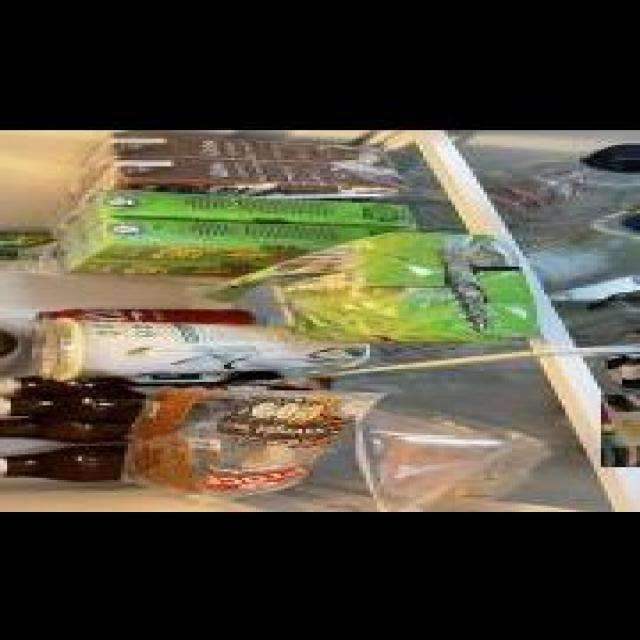sausage: (601, 390, 640, 463)
yogurt: (34, 318, 372, 380), (622, 352, 640, 384)
